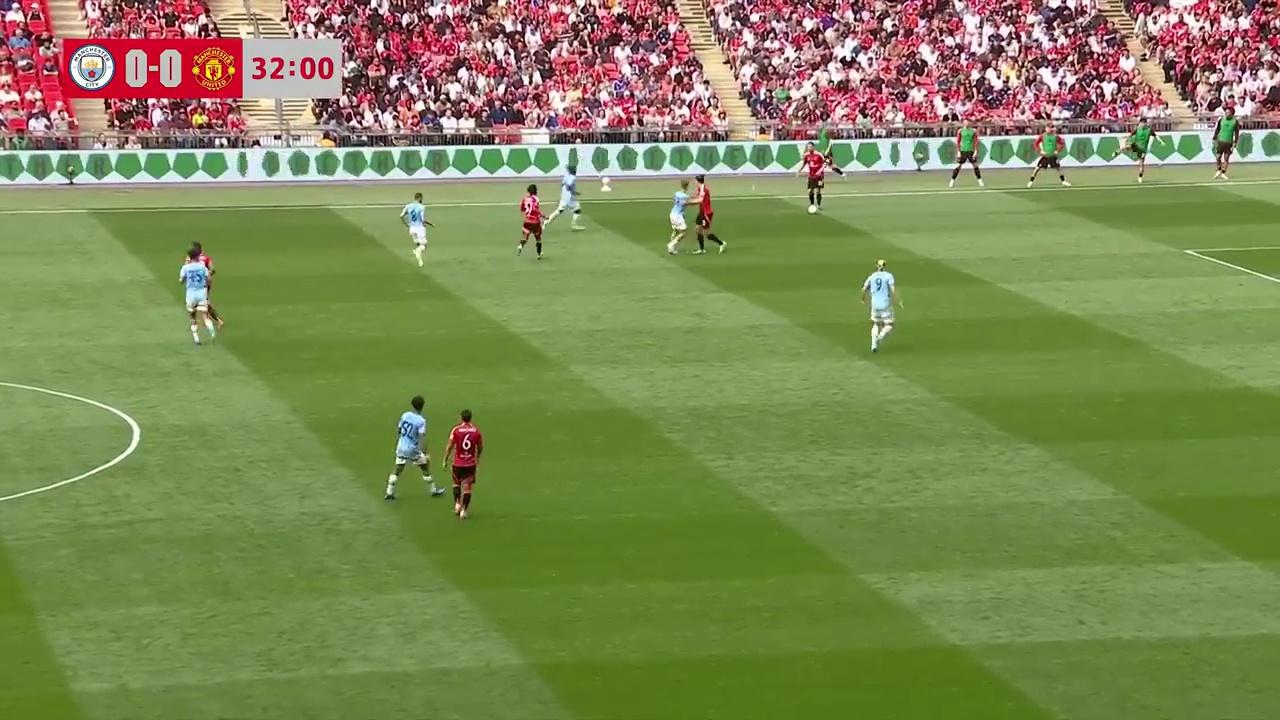player: (384, 397, 437, 500), (441, 409, 483, 520), (181, 250, 221, 346), (860, 259, 901, 351), (179, 242, 217, 332), (690, 177, 726, 253), (400, 191, 434, 266), (516, 185, 545, 257), (803, 140, 830, 213), (666, 183, 691, 255), (549, 173, 581, 226)
